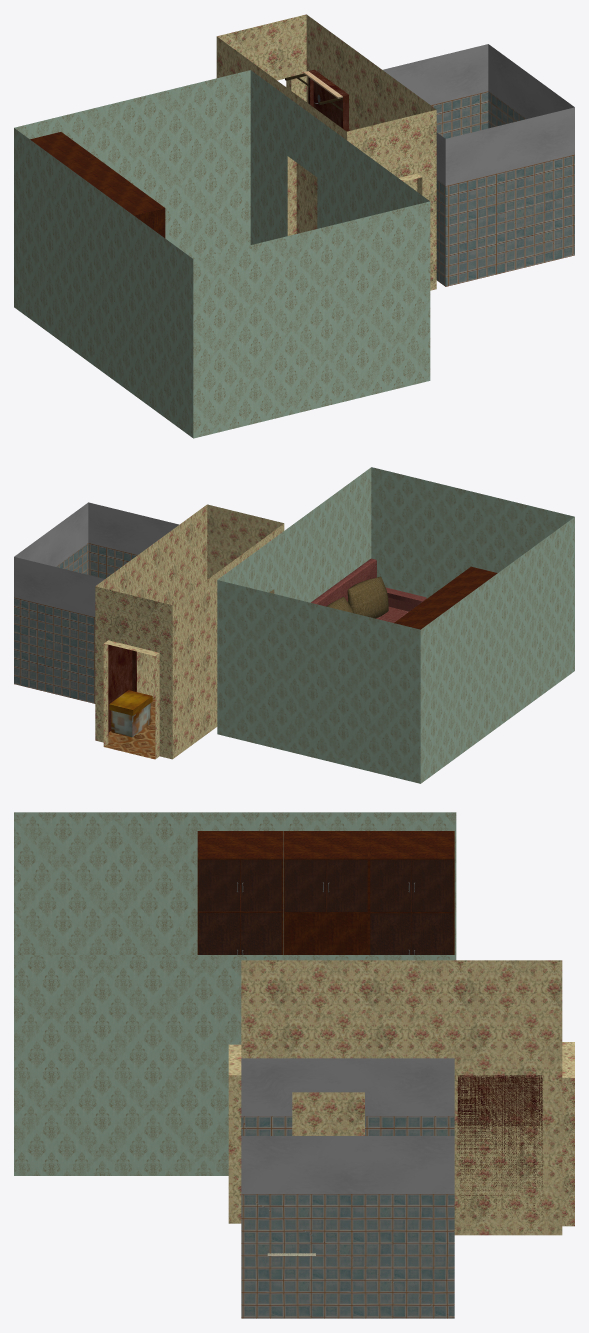
Rendered from room_pregen.glb.
3 views of the same model, one above another, from view 1: azimuth 30°, elevation 25°; view 2: azimuth 150°, elevation 25°; view 3: azimuth 270°, elevation 25° (orthographic). The views are drawn at different scales.
Parts seen in each view (by area): view 1: walls.002, walls.001, walls, doorframe.003, Cube.002, Cube.049, Cube.031, Cube.020; view 2: walls.002, walls, walls.001, Cube.007, Cube.002, Cube.057, floor, Cube.056, Cube.049, Cube.020, doorframe.002, Cube.031; view 3: walls.002, walls, walls.001, Cube.002, Cube.053, doorframe.002, Cube.049, Cube.031, Cube.020, Cube.033, Cube.046, Cube.017 (+7 smaller).
Boxes of the visible parts, <box> form: walls.002: <box>14,70,430,438</box>; walls.001: <box>383,44,574,286</box>; walls: <box>216,14,436,290</box>; doorframe.003: <box>296,163,317,233</box>; Cube.002: <box>308,69,348,131</box>; Cube.049: <box>65,157,129,189</box>; Cube.031: <box>30,132,94,164</box>; Cube.020: <box>100,183,164,215</box>; walls.002: <box>217,467,574,783</box>; walls: <box>95,504,284,759</box>; walls.001: <box>14,502,178,703</box>; Cube.007: <box>109,690,152,737</box>; Cube.002: <box>108,644,136,735</box>; Cube.057: <box>347,576,388,618</box>; floor: <box>104,697,155,759</box>; Cube.056: <box>311,558,376,606</box>; Cube.049: <box>412,589,466,616</box>; Cube.020: <box>442,567,496,594</box>; doorframe.002: <box>164,568,189,604</box>; Cube.031: <box>394,611,436,629</box>; walls.002: <box>14,812,456,1175</box>; walls: <box>228,960,574,1235</box>; walls.001: <box>241,1058,454,1318</box>; Cube.002: <box>457,1075,542,1227</box>; Cube.053: <box>283,831,368,954</box>; doorframe.002: <box>292,1092,364,1135</box>; Cube.049: <box>284,831,367,859</box>; Cube.031: <box>370,831,453,859</box>; Cube.020: <box>198,831,281,859</box>; Cube.033: <box>370,859,411,911</box>; Cube.046: <box>326,859,367,911</box>; Cube.017: <box>240,859,281,911</box>.
Size of the model in its own units: 8.4 by 3.12 by 6.99.
15 materials, 15 textured.
